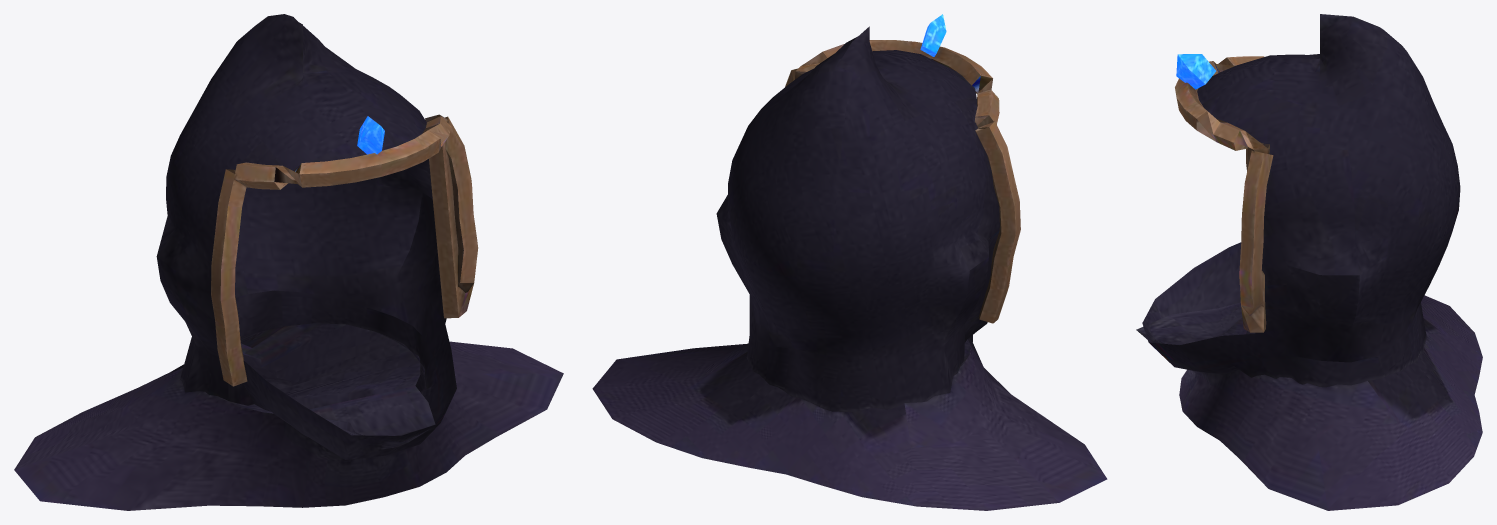
File: Capuz_do_Mago_nivel75.glb
3 views of the same model, side by side, from view 1: azimuth 30°, elevation 25°; view 2: azimuth 150°, elevation 25°; view 3: azimuth 270°, elevation 25° (orthographic). The views are drawn at different scales.
Parts seen in each view (by area): view 1: capuz_do_mago_nivel75; view 2: capuz_do_mago_nivel75; view 3: capuz_do_mago_nivel75.
Boxes of the visible parts, bbox=[...] form: capuz_do_mago_nivel75: bbox=[14, 14, 563, 510]; capuz_do_mago_nivel75: bbox=[592, 14, 1107, 510]; capuz_do_mago_nivel75: bbox=[1136, 14, 1482, 510].
Size of the model in its own units: 0.4628 by 0.352 by 0.2919.
Materials: 1 (1 with a texture image).
